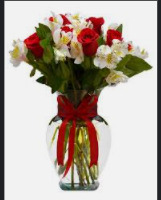RedRose: (76, 26, 105, 63)
